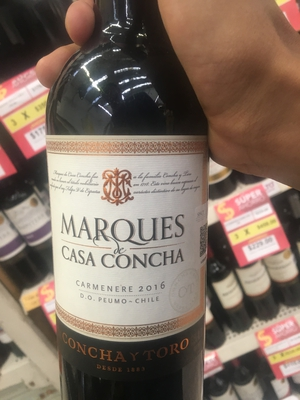marques de casa concha carmenere: (33, 14, 223, 399)
